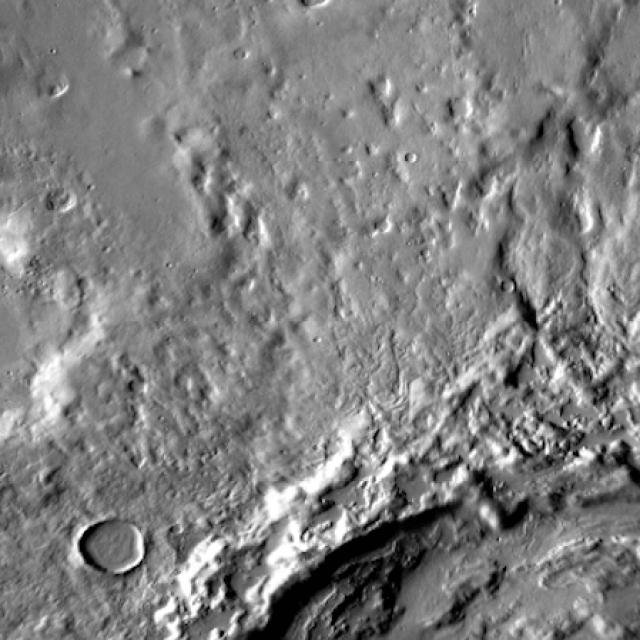Crater: (147, 424, 640, 640), (0, 157, 84, 492)
